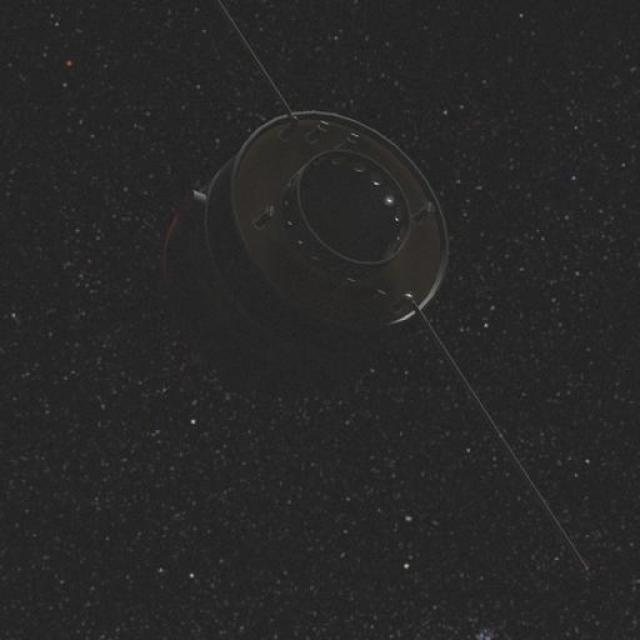double_start: (129, 107, 518, 386)
